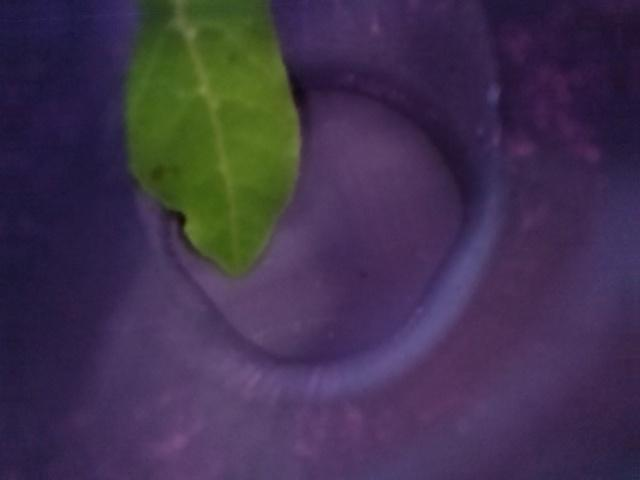feuille: (113, 1, 311, 303)
